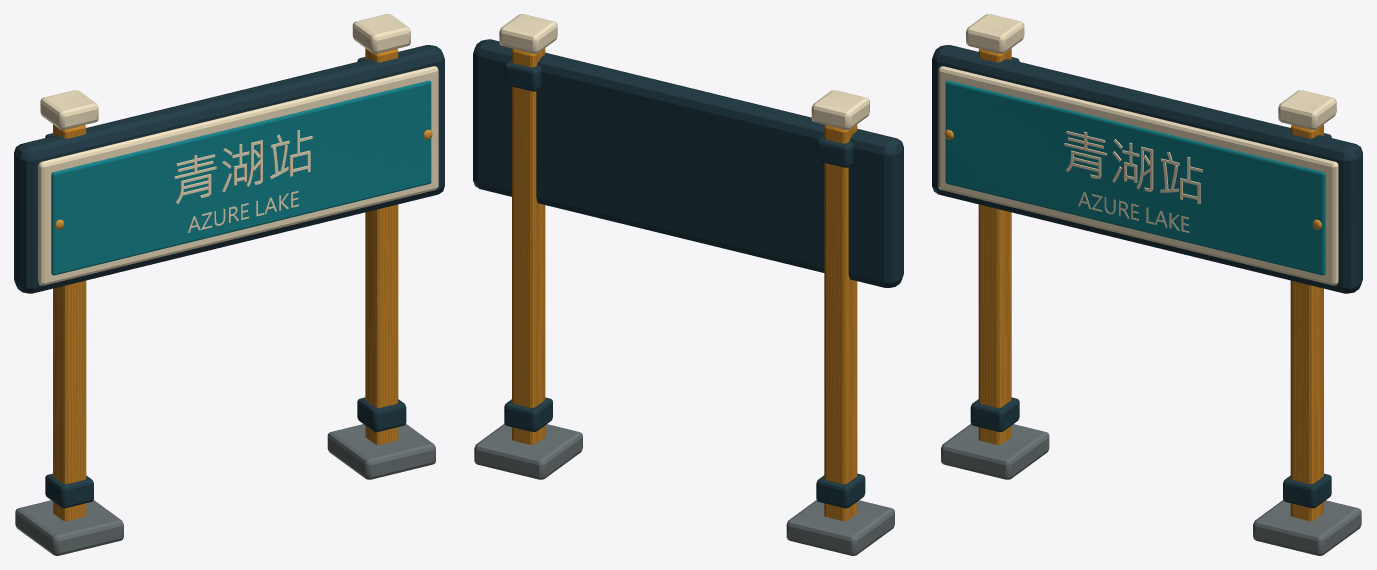
File: Prop_Station_StationSign_001.glb
3 views of the same model, side by side, from view 1: azimuth 30°, elevation 25°; view 2: azimuth 150°, elevation 25°; view 3: azimuth 330°, elevation 25° (orthographic).
Visible parts, largest first — view 1: StationSign_Body; view 2: StationSign_Body; view 3: StationSign_Body.
Part boxes in pixels (x1=…): StationSign_Body: x1=14, y1=14, x2=444, y2=555; StationSign_Body: x1=473, y1=14, x2=903, y2=555; StationSign_Body: x1=932, y1=14, x2=1362, y2=555.
Bounding box in the file's own units: 2.58 × 2.53 × 0.44.
Materials: 1 (1 with a texture image).
